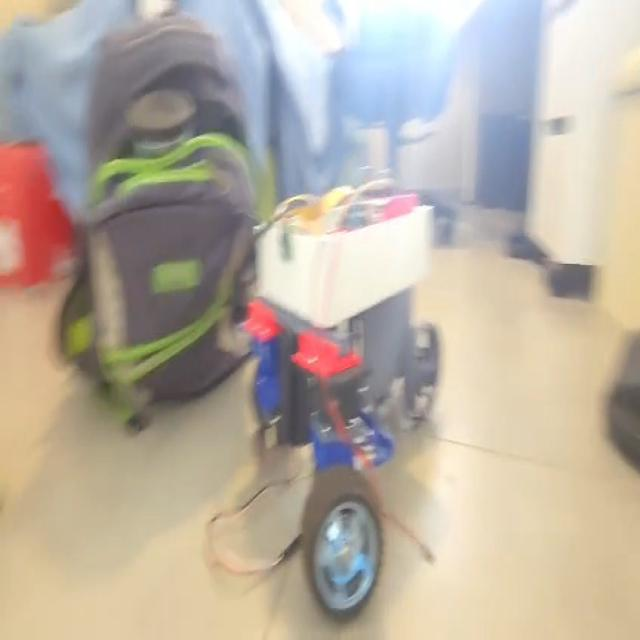Robot: (234, 178, 445, 624)
